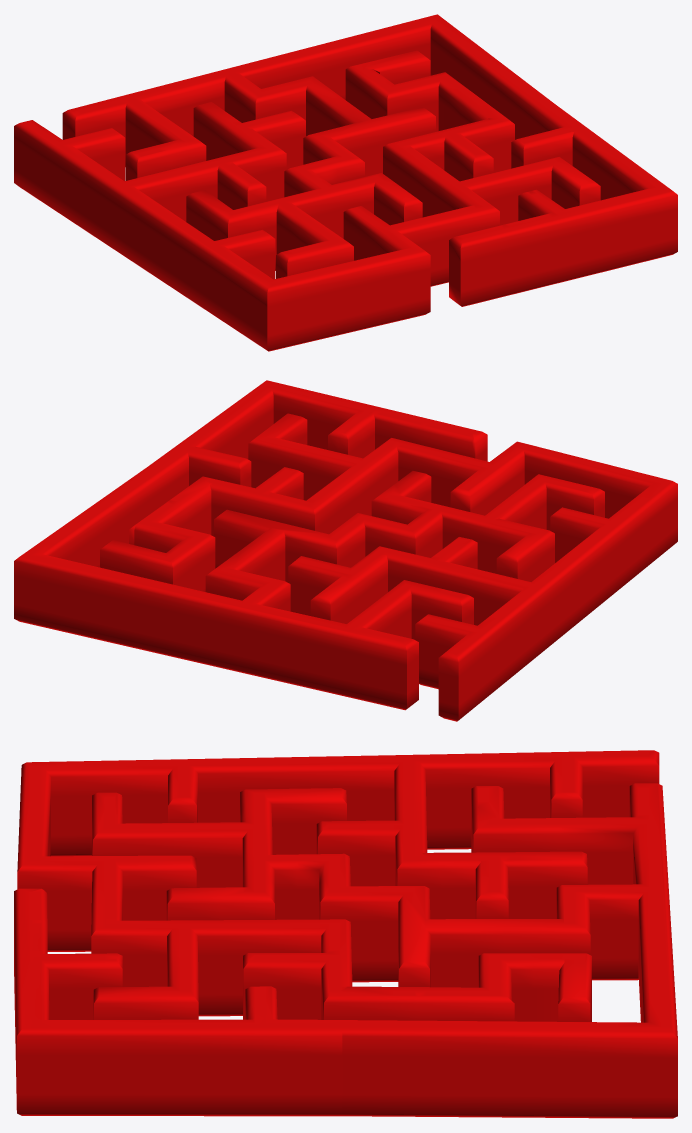
The picture shows the model from 3 angles, top to bottom: view 1: azimuth 30°, elevation 25°; view 2: azimuth 150°, elevation 25°; view 3: azimuth 270°, elevation 25°; orthographic projection. The views are drawn at different scales.
Parts seen in each view (by area): view 1: grid; view 2: grid; view 3: grid.
Part boxes in pixels (box(x1,y1,x2,y2)): grid: box(14, 14, 677, 351); grid: box(14, 380, 677, 721); grid: box(14, 750, 677, 1118).
Size of the model in its own units: 634 by 90.29 by 622.
